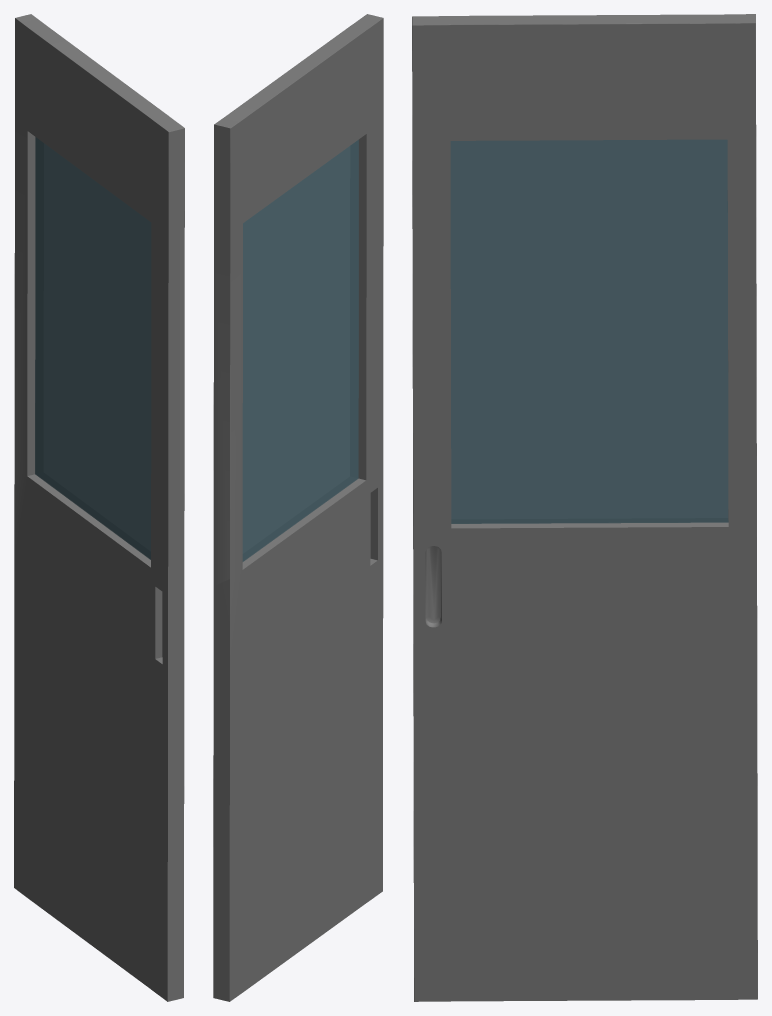
Rendered from DoorSchoolB.fbx.
The picture shows the model from 3 angles, left to right: view 1: azimuth 30°, elevation 25°; view 2: azimuth 150°, elevation 25°; view 3: azimuth 270°, elevation 25°; orthographic projection. The views are drawn at different scales.
Parts seen in each view (by area): view 1: DoorSchoolB; view 2: DoorSchoolB; view 3: DoorSchoolB.
Part boxes in pixels (x1,y1,x2,y2): DoorSchoolB: (14, 14, 184, 1001); DoorSchoolB: (213, 14, 383, 1001); DoorSchoolB: (412, 14, 757, 1001).
Size of the model in its own units: 4.47 by 221 by 70.82.
